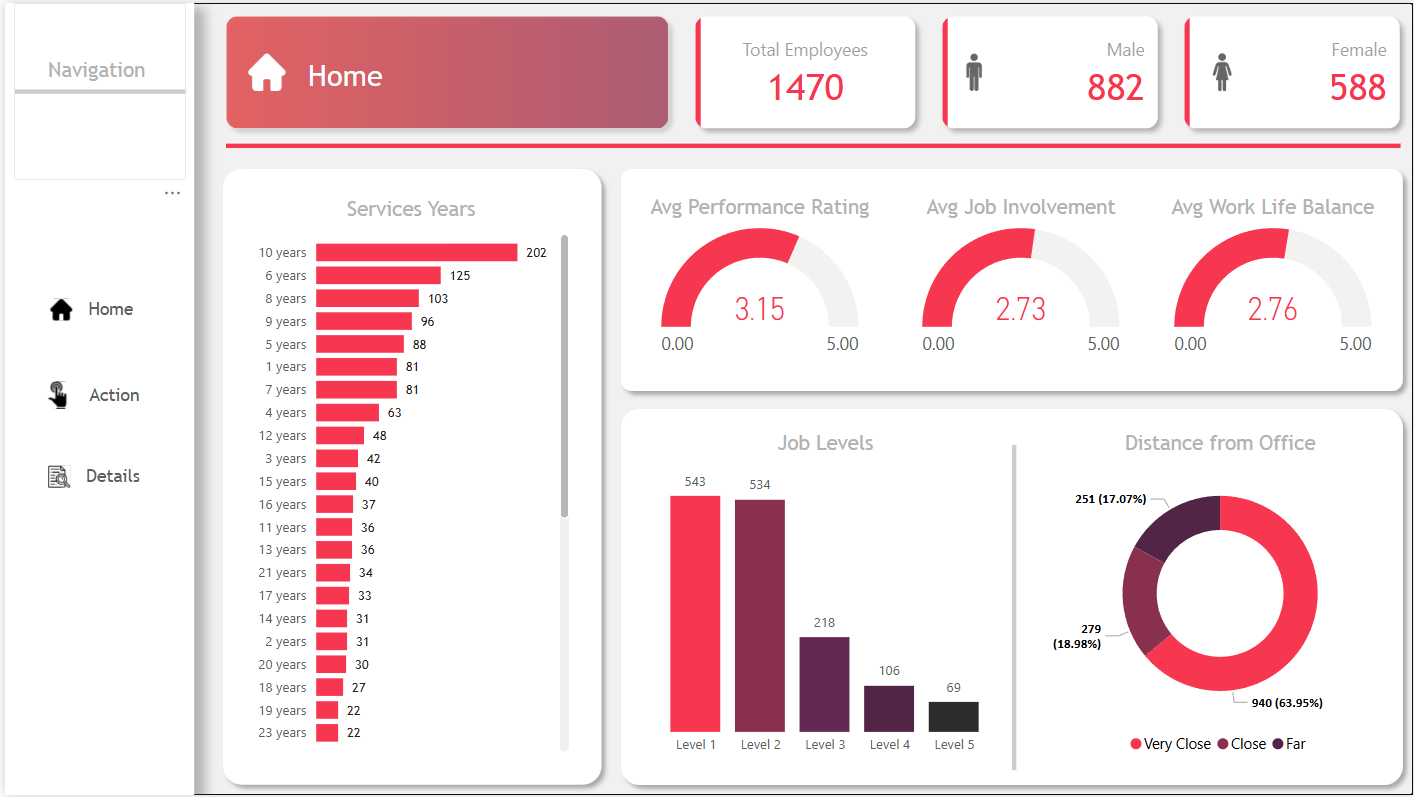

What the dashboard file says about the page in this screenshot:
{"tool":"powerbi","page":{"name":"Home","canvas":[1280,720],"ordinal":0},"visuals":[{"type":"shape","box":[551.1,360,728.9,360],"z":0},{"type":"shape","box":[0,0,172.2,720],"z":1000},{"type":"shape","box":[818.9,402.2,196.7,295.6],"z":2000},{"type":"shape","box":[551.1,142.2,728.9,220],"z":3000},{"type":"cardVisual","fields":{"Data":["HR Analytics Data.Total Employee"]},"box":[615.6,0,224.4,126.7],"z":4000},{"type":"cardVisual","fields":{"Data":["HR Analytics Data.No of Male"]},"box":[840,0,220,126.7],"z":5000},{"type":"cardVisual","fields":{"Data":["HR Analytics Data.No of Female"]},"box":[1060,0,220,126.7],"z":6000},{"type":"donutChart","title":"Distance from Office","fields":{"Category":["HR Analytics Data.DistanceFromHome (groups)"],"Y":["HR Analytics Data.Total Employee"]},"box":[928.9,387.8,351.1,304.4],"z":7000},{"type":"columnChart","title":"Job Levels","fields":{"Y":["HR Analytics Data.Total Employee"],"Category":["HR Analytics Data.Job Level"]},"box":[576.7,387.8,338.9,304.4],"z":8000},{"type":"gauge","title":"Avg Work Life Balance","fields":{"Y":["Avg(HR Analytics Data.WorkLifeBalance)"]},"box":[1047.8,173.3,208.9,156.7],"z":9000},{"type":"gauge","title":"Avg Job Involvement","fields":{"Y":["Avg(HR Analytics Data.JobInvolvement)"]},"box":[818.9,173.3,208.9,156.7],"z":10000},{"type":"textbox","box":[0,44.4,172.2,37.8],"z":11000},{"type":"shape","box":[7.8,0,156.7,161.1],"z":12000},{"type":"shape","box":[188.9,142.2,362.2,577.8],"z":13000},{"type":"barChart","title":"Services Years ","fields":{"Category":["HR Analytics Data.Total Working Years"],"Y":["HR Analytics Data.Total Employee"]},"box":[221.1,175.6,296.7,510],"z":14000},{"type":"gauge","title":"Avg Performance Rating","fields":{"Y":["Avg(HR Analytics Data.PerformanceRating)"]},"box":[582.2,173.3,208.9,156.7],"z":15000},{"type":"cardVisual","fields":{"Data":["HR Analytics Data.Home Heading"]},"box":[188.9,0,426.7,126.7],"z":16000},{"type":"shape","box":[201.1,97.8,1067.8,63.3],"z":17000},{"type":"actionButton","box":[8.2,403.6,145.5,53.6],"z":18000},{"type":"actionButton","box":[8.2,251.8,145.5,53.6],"z":19000},{"type":"actionButton","box":[8.2,330,145.5,53.6],"z":20000}]}

Visuals, with their boxes on the page's 1280x720 design canvas (x1, y1, x2, y2). These are canvas units, not pixel positions in the 1414x797 screenshot, which may show the page scaled, cropped or inside an application window:
shape: (551,360,1280,720)
shape: (0,0,172,720)
shape: (819,402,1016,698)
shape: (551,142,1280,362)
cardVisual - HR Analytics Data.Total Employee: (616,0,840,127)
cardVisual - HR Analytics Data.No of Male: (840,0,1060,127)
cardVisual - HR Analytics Data.No of Female: (1060,0,1280,127)
"Distance from Office" donutChart: (929,388,1280,692)
"Job Levels" columnChart: (577,388,916,692)
"Avg Work Life Balance" gauge: (1048,173,1257,330)
"Avg Job Involvement" gauge: (819,173,1028,330)
textbox: (0,44,172,82)
shape: (8,0,164,161)
shape: (189,142,551,720)
"Services Years " barChart: (221,176,518,686)
"Avg Performance Rating" gauge: (582,173,791,330)
cardVisual - HR Analytics Data.Home Heading: (189,0,616,127)
shape: (201,98,1269,161)
actionButton: (8,404,154,457)
actionButton: (8,252,154,305)
actionButton: (8,330,154,384)
